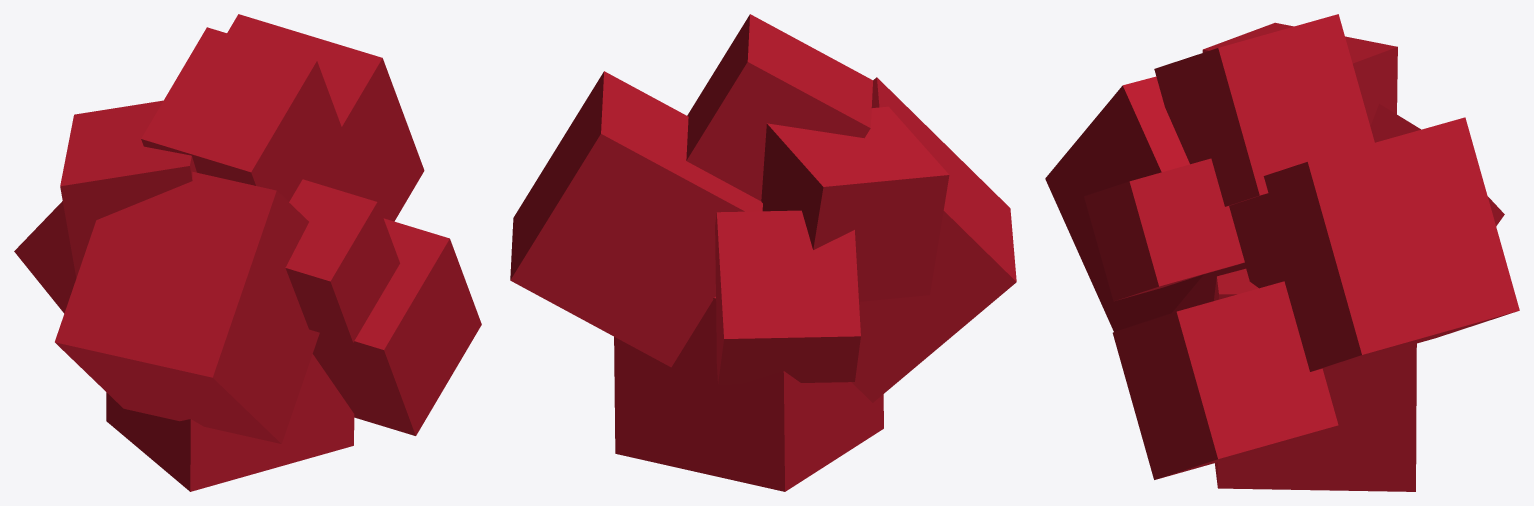
File: tree-dead-leaves-015.glb
The picture shows the model from 3 angles, left to right: view 1: azimuth 30°, elevation 25°; view 2: azimuth 150°, elevation 25°; view 3: azimuth 270°, elevation 25°; orthographic projection. The views are drawn at different scales.
Parts seen in each view (by area): view 1: Cube.080_449; view 2: Cube.080_449; view 3: Cube.080_449.
Boxes of the visible parts, x1,y1,x2,y2 form: Cube.080_449: (14,14,481,491); Cube.080_449: (510,14,1016,491); Cube.080_449: (1045,14,1519,491).
Size of the model in its own units: 1.31 by 1.13 by 1.14.
